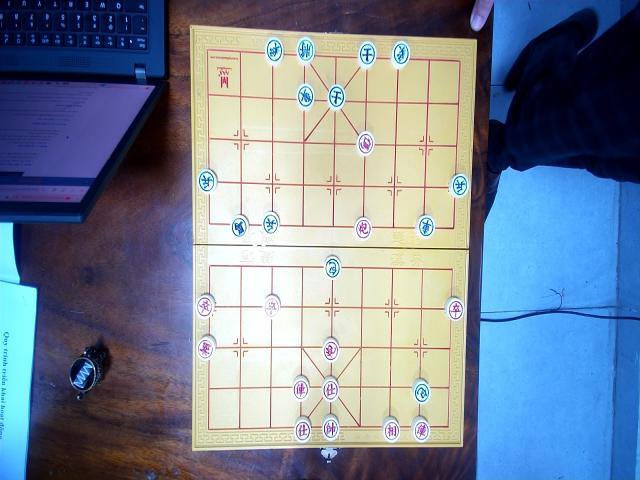piece: (390, 39, 410, 68), (449, 171, 469, 199), (196, 334, 216, 361), (410, 415, 430, 442), (357, 41, 377, 68), (355, 129, 374, 157), (265, 36, 284, 64), (415, 213, 435, 239), (197, 168, 217, 194), (382, 415, 401, 442), (411, 378, 430, 405), (296, 36, 314, 64), (444, 296, 464, 321), (195, 292, 214, 318), (294, 416, 312, 443), (322, 337, 340, 364), (292, 374, 310, 401), (296, 82, 314, 109), (353, 215, 372, 240), (230, 214, 249, 239), (322, 415, 340, 441), (321, 376, 338, 402), (262, 211, 280, 235), (263, 293, 280, 318), (328, 84, 344, 110), (324, 254, 341, 278)
